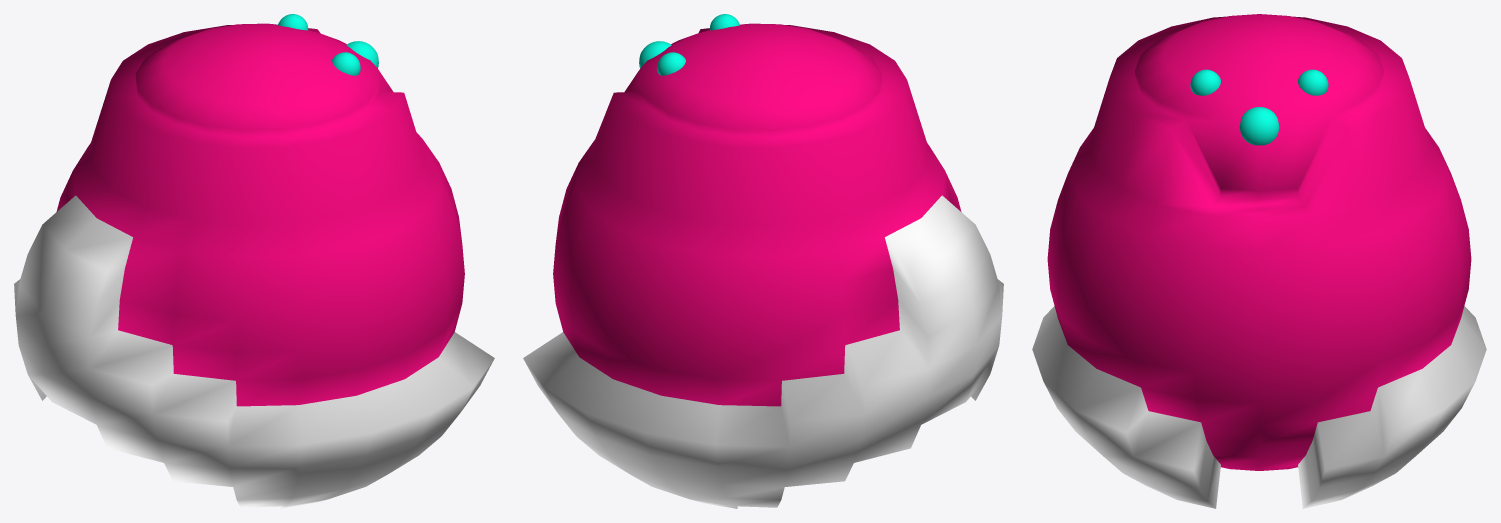
3 views of the same model, side by side, from view 1: azimuth 30°, elevation 25°; view 2: azimuth 150°, elevation 25°; view 3: azimuth 270°, elevation 25° (orthographic).
Visible parts, largest first — view 1: polySurface1.001; view 2: polySurface1.001; view 3: polySurface1.001.
Part boxes in pixels (x1,y1,x2,y2): polySurface1.001: (14,14,494,508); polySurface1.001: (523,14,1003,508); polySurface1.001: (1032,14,1486,508).
Size of the model in its own units: 2.24 by 2.23 by 2.14.
